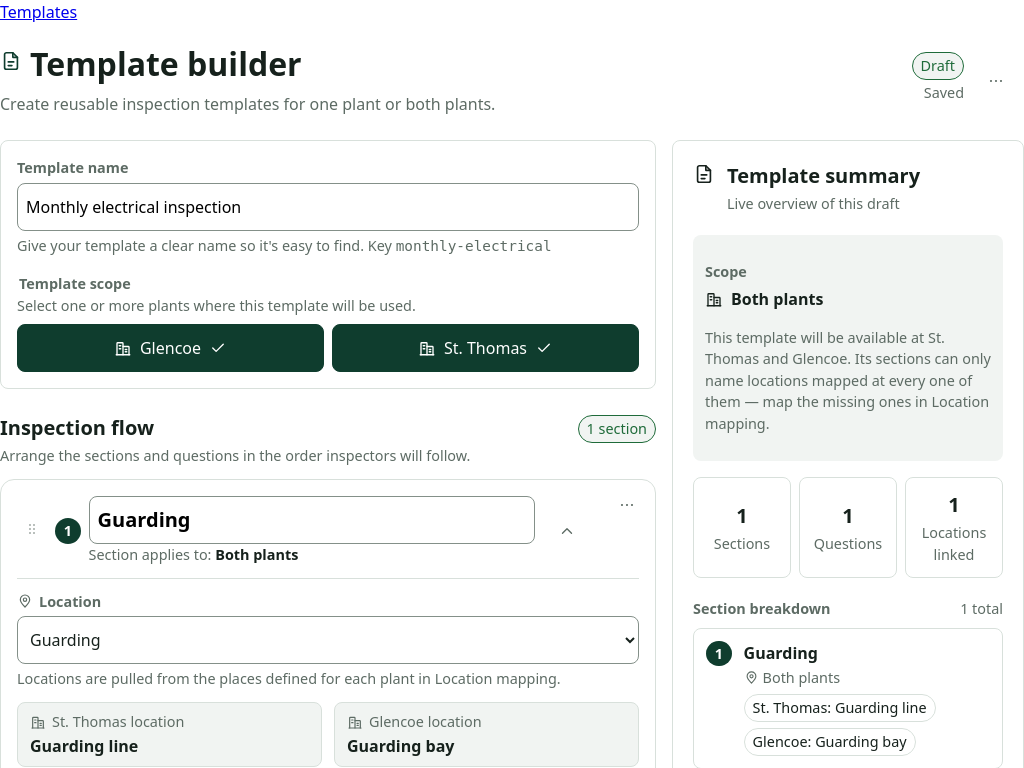
Scenario: el alcance de plantas › cambiarlo cuenta como un cambio sin guardar
expect the field labelled "Template name" is shown: met, box [17,183,639,231]
expect the button "St. Thomas" is shown: met, box [332,324,639,372]
Click the button "Glencoe": coordinates (170, 348) [17,324,324,372]
(page scrolled)
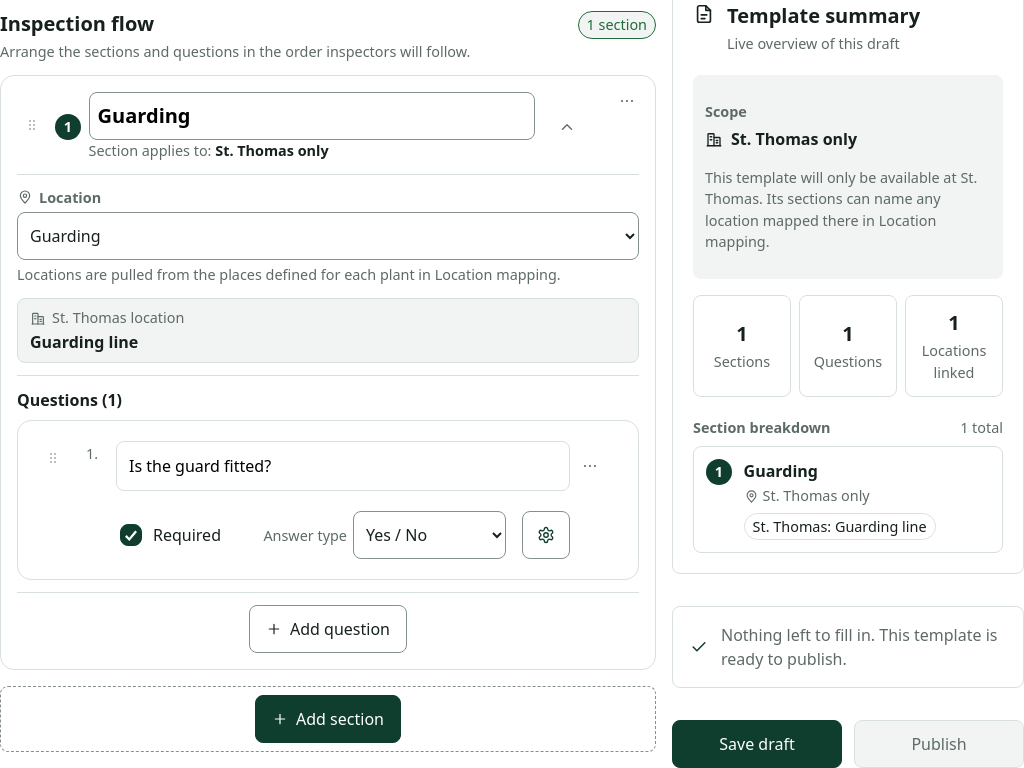
expect the button "Save draft" is shown: met, box [672,720,842,767]
